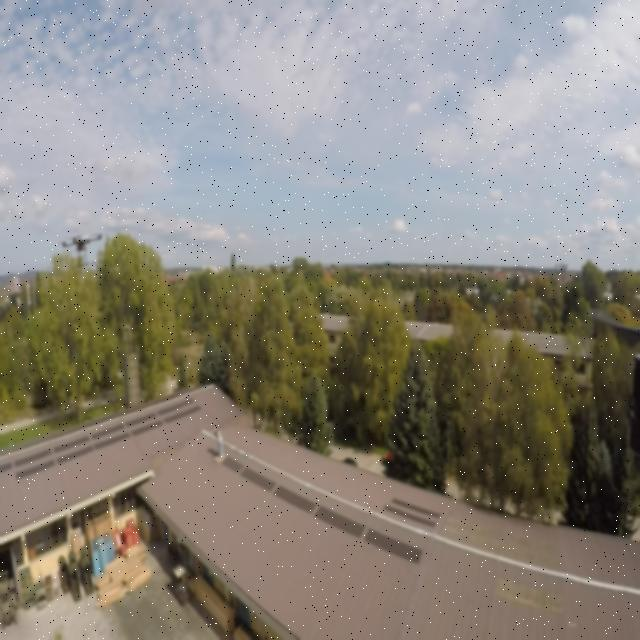UAV: (56, 227, 110, 274)
